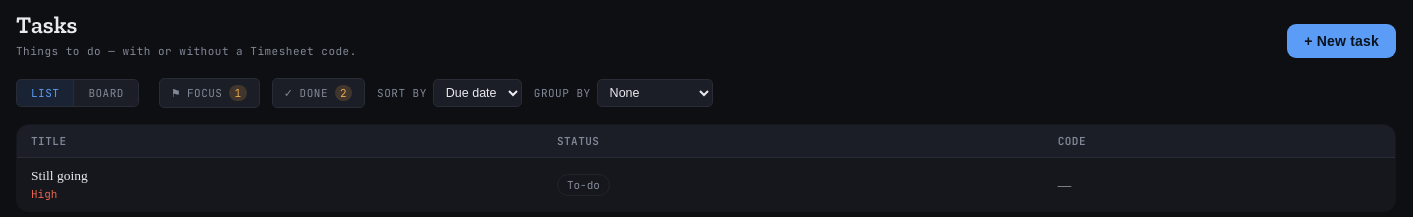
it: TasksScreen › hiding done tasks in the list › steps aside while Focus is on, which already excludes finished work
Click the button with test id "wk-task-focus" at (209, 93), box top-left (159, 78), bottom-right (260, 108)
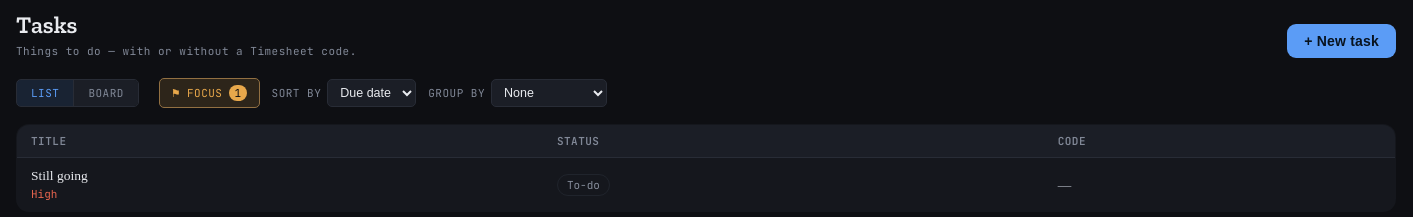
Expected: the button with test id "wk-task-show-done" is gone
